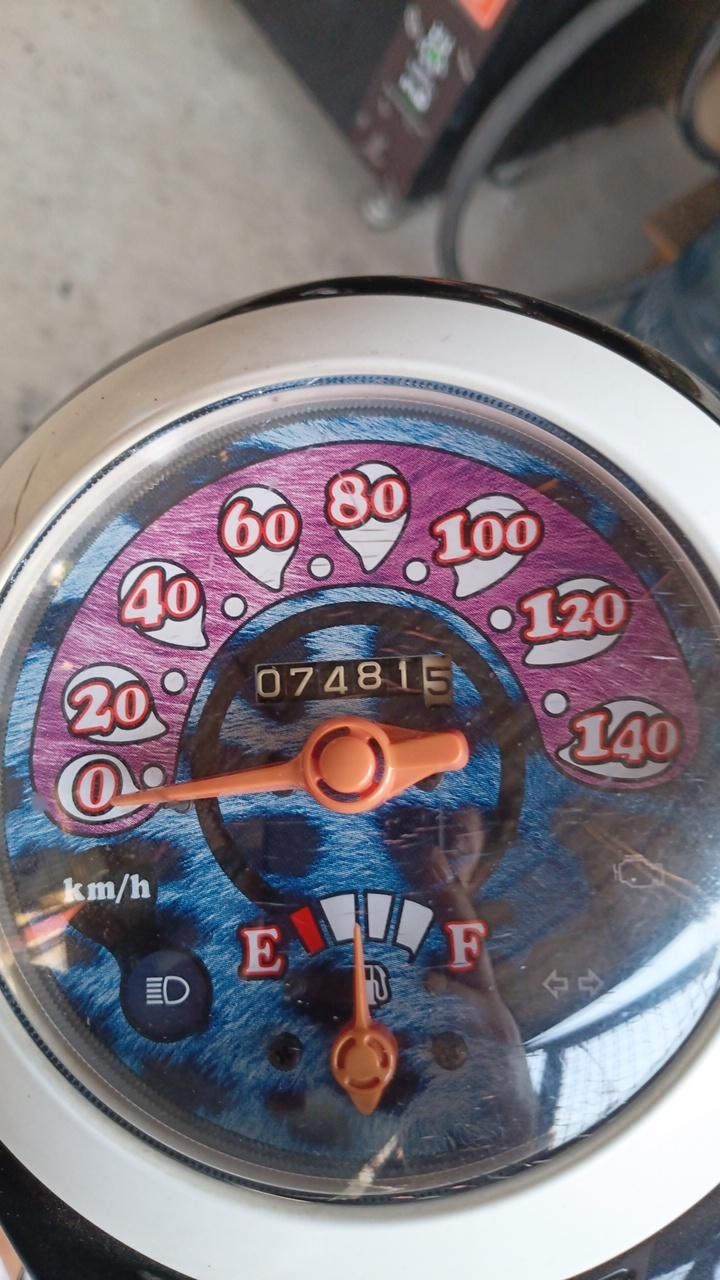0: (256, 669, 281, 699)
1: (398, 659, 409, 690)
4: (323, 665, 348, 696)
5: (424, 663, 451, 696)
7: (289, 667, 314, 697)
8: (357, 660, 383, 691)
odometer: (254, 651, 456, 711)
